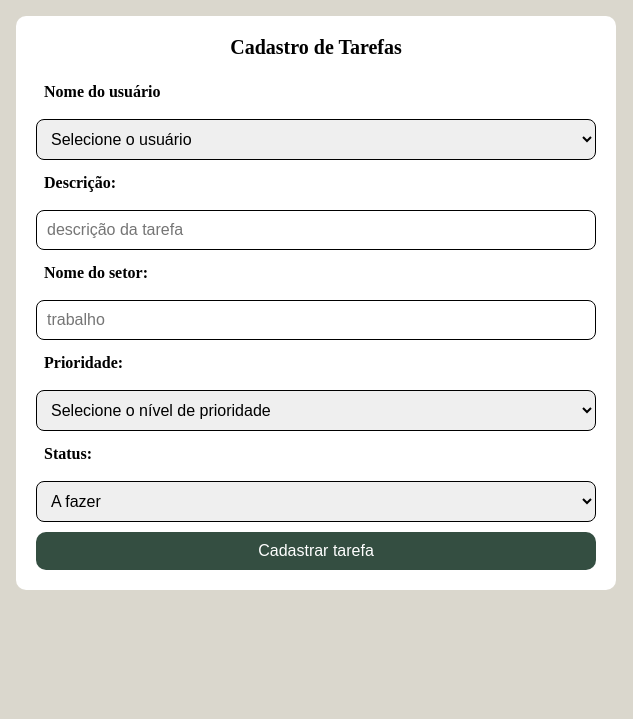
Test case: Cadastro de Tarefa › não deve permitir envio com todos os campos vazios e deve mostrar todos os erros
Click the button "Cadastrar tarefa" at x=316, y=551, box x1=36 y1=532 x2=596 y2=570
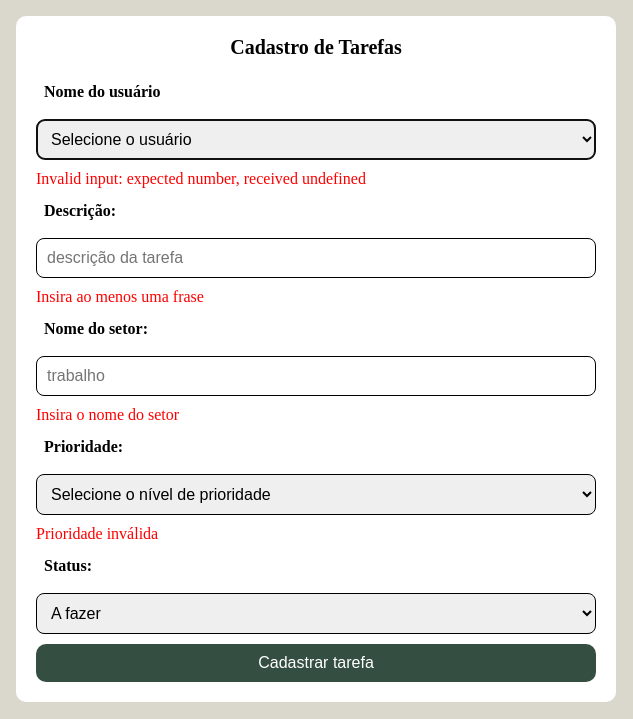
Now the text "Invalid input: expected number, received undefined" is shown, box x1=36 y1=170 x2=366 y2=187
Now the text "Insira ao menos uma frase" is shown, box x1=36 y1=288 x2=204 y2=305
Now the text "Insira o nome do setor" is shown, box x1=36 y1=406 x2=179 y2=423
